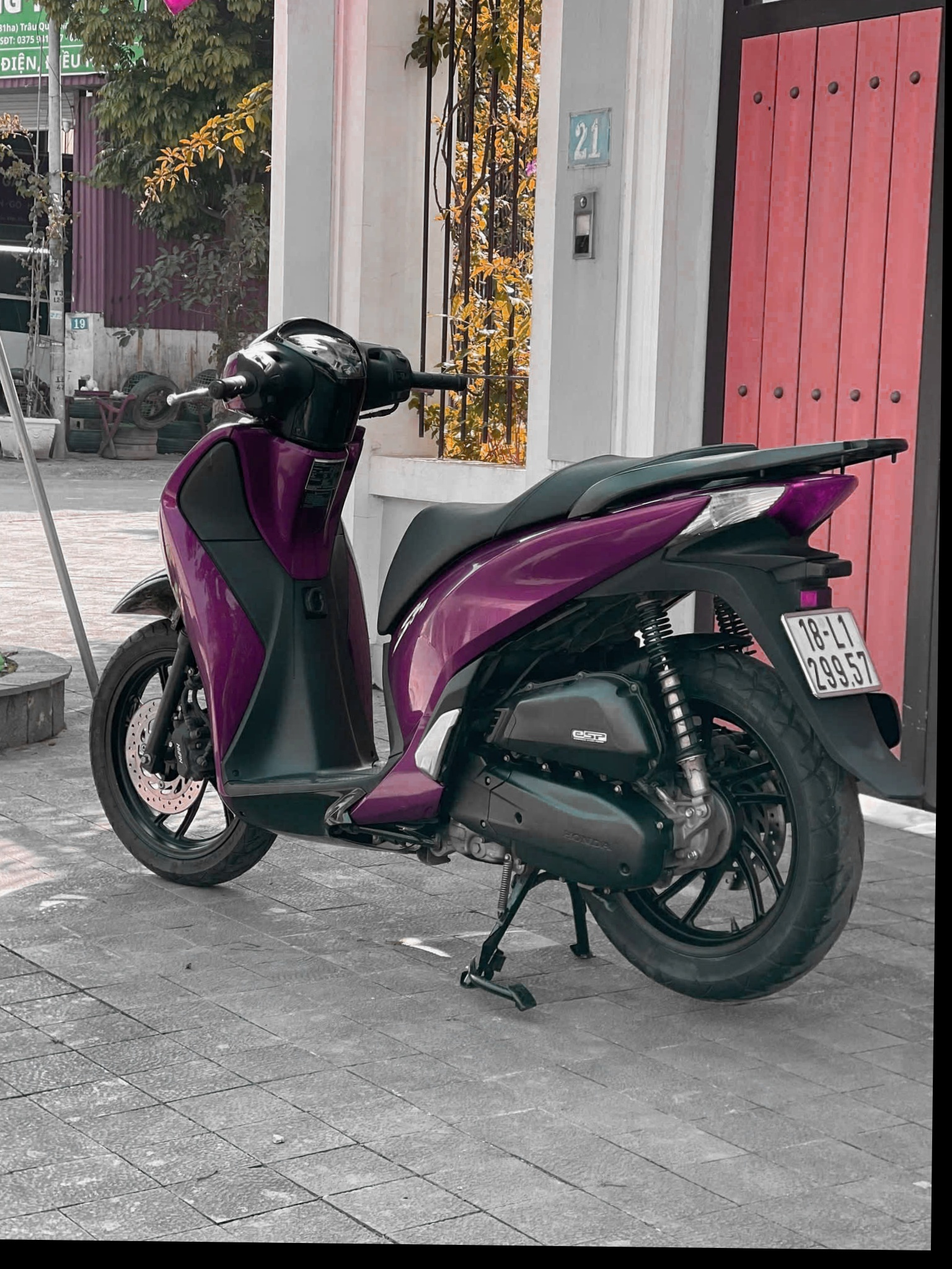Bien-so: (780, 602, 892, 701)
